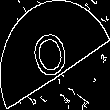O_SE: (31, 22, 79, 88)
